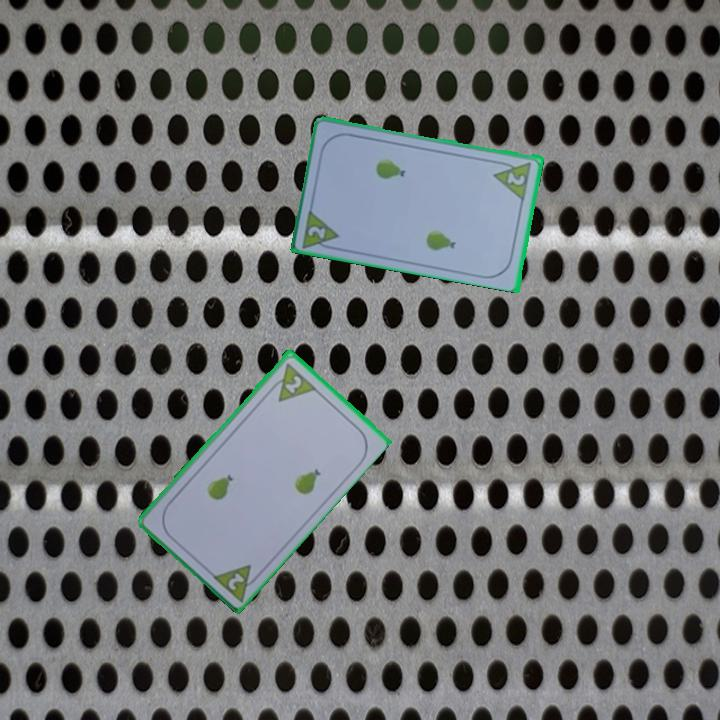2p: (208, 560, 264, 604), (491, 157, 535, 202), (281, 371, 305, 396), (304, 222, 329, 242)
